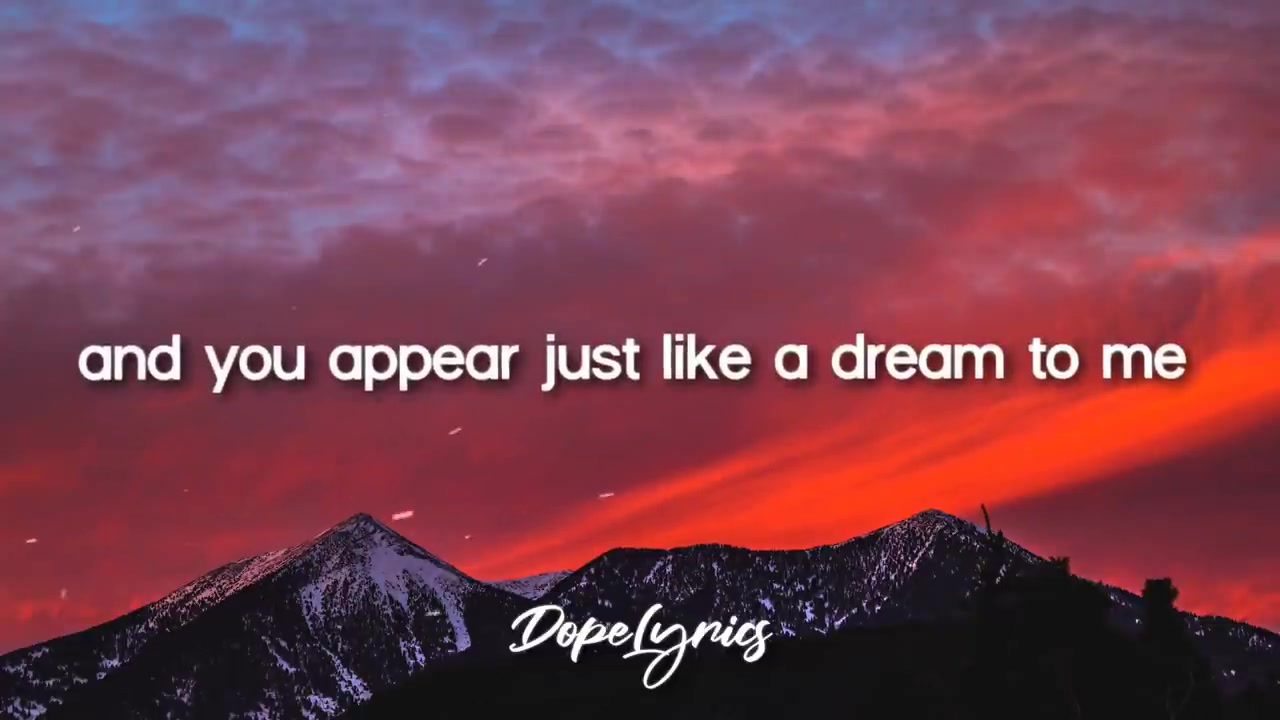text-label: (70, 330, 1191, 393)
